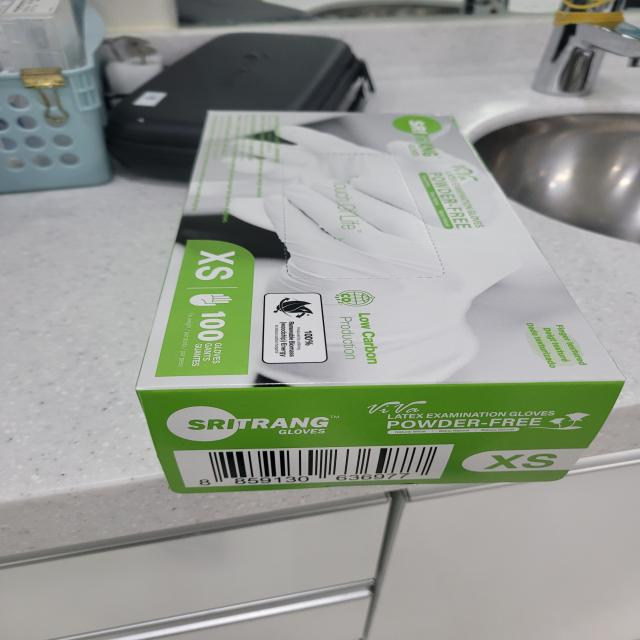glove: (129, 93, 625, 500)
